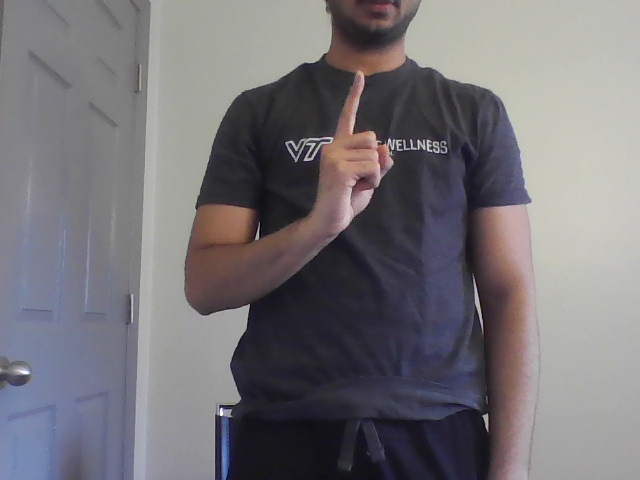one: (315, 67, 397, 219)
